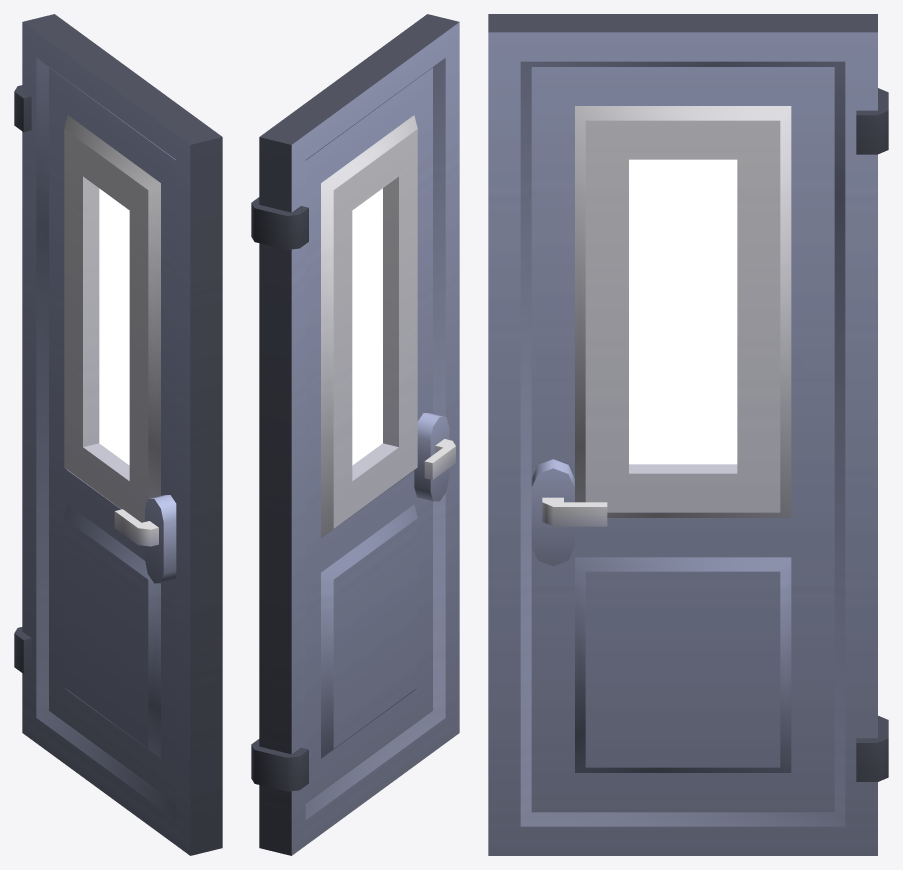
Rendered from part_door_rotate_square_d.fbx.
The picture shows the model from 3 angles, left to right: view 1: azimuth 30°, elevation 25°; view 2: azimuth 150°, elevation 25°; view 3: azimuth 270°, elevation 25°; orthographic projection. The views are drawn at different scales.
Parts seen in each view (by area): view 1: door, (%ignore), handle; view 2: door, (%ignore), handle; view 3: door, (%ignore), handle.
Part boxes in pixels (x1,y1,x2,y2): door: (14, 14, 222, 855); (%ignore): (99, 188, 129, 465); handle: (114, 509, 158, 546); door: (251, 14, 459, 855); (%ignore): (352, 188, 382, 465); handle: (424, 439, 455, 479); door: (488, 14, 888, 855); (%ignore): (629, 159, 737, 464); handle: (542, 497, 607, 526).
Bounding box in the file's own units: 25 × 210 × 92.5.
Materials: 2 (1 with a texture image).
